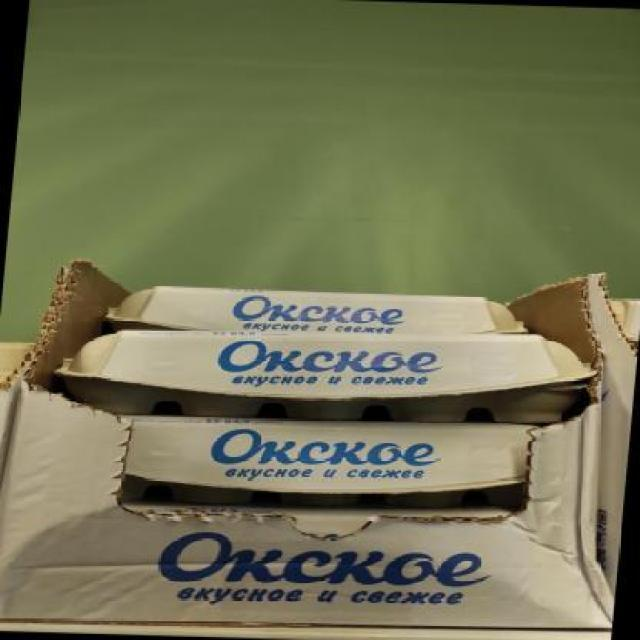egg: (44, 324, 600, 430), (119, 413, 535, 512), (104, 284, 534, 340)
